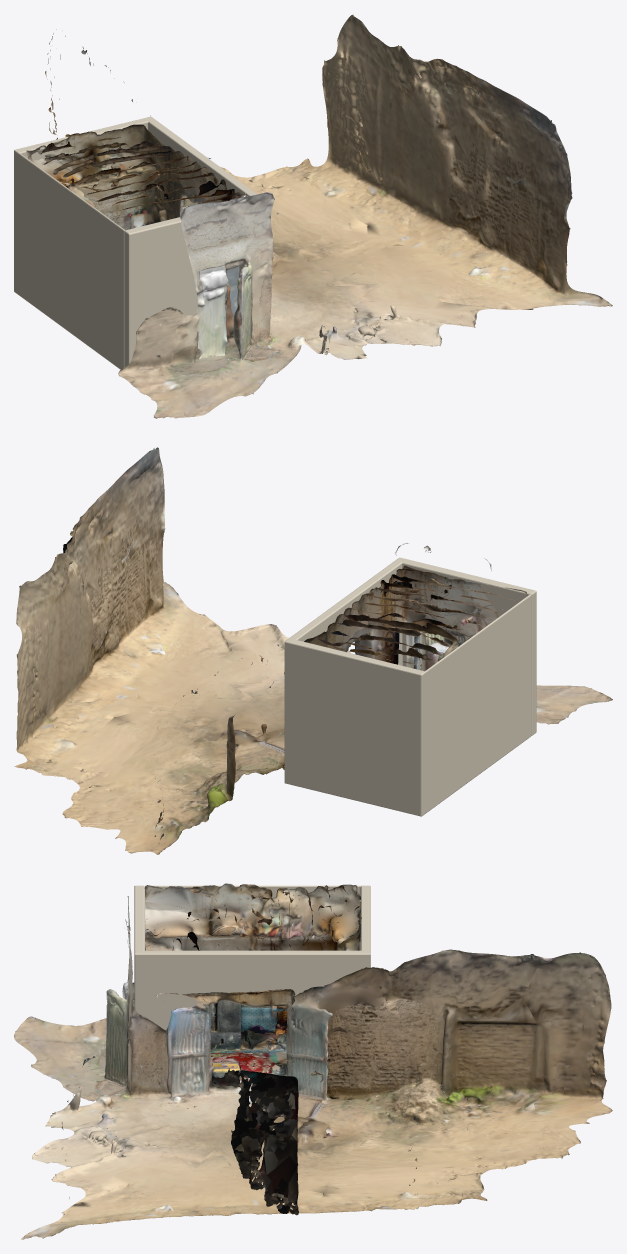
File: shared.glb
3 renders of one model, top to bottom at view 1: azimuth 30°, elevation 25°; view 2: azimuth 150°, elevation 25°; view 3: azimuth 270°, elevation 25°, orthographic. The views are drawn at different scales.
Parts seen in each view (by area): view 1: EnvironmentScan, SolidWallStructure; view 2: EnvironmentScan, SolidWallStructure; view 3: EnvironmentScan, SolidWallStructure.
Part boxes in pixels (left/top/right/bottom): EnvironmentScan: left=26, top=14, right=612, bottom=418; SolidWallStructure: left=14, top=116, right=257, bottom=369; EnvironmentScan: left=14, top=447, right=612, bottom=854; SolidWallStructure: left=284, top=557, right=536, bottom=816; EnvironmentScan: left=14, top=883, right=612, bottom=1239; SolidWallStructure: left=134, top=885, right=370, bottom=1030.
Size of the model in its own units: 12.32 by 4.64 by 13.71.
Materials: 2 (1 with a texture image).
